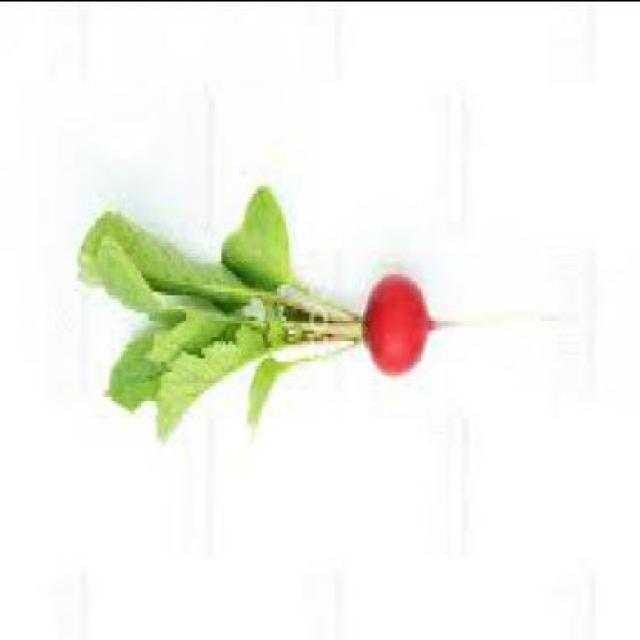BIODEGRADABLE: (77, 192, 358, 440), (361, 276, 461, 378)
